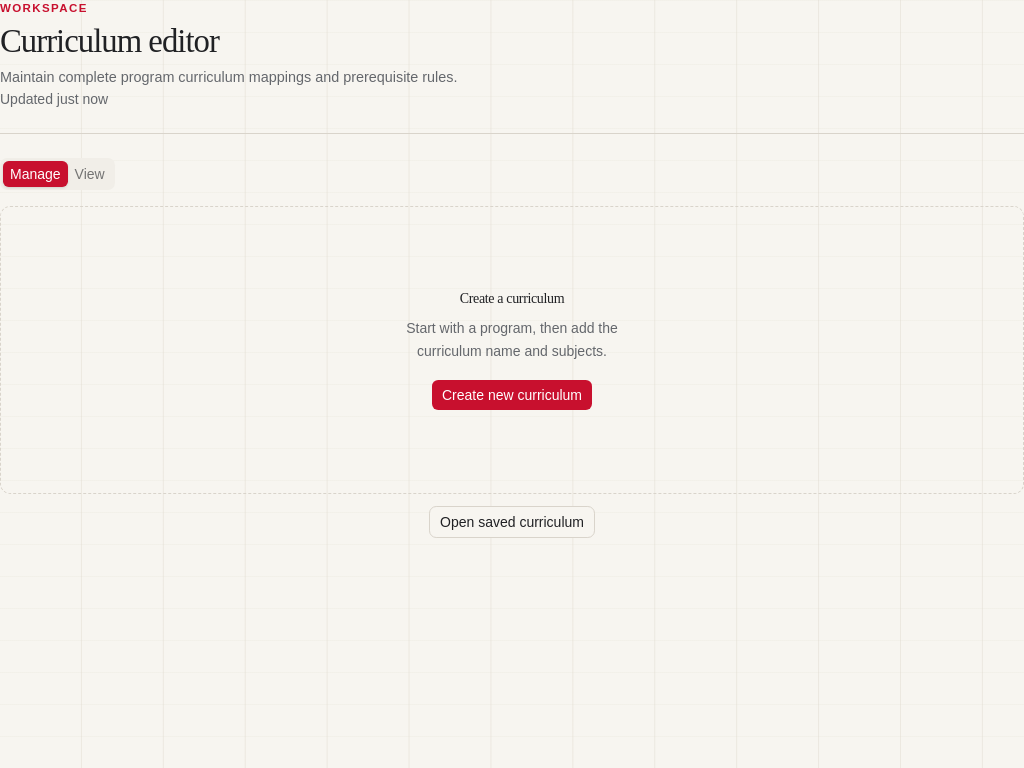
Scenario: CurriculumWorkspace › shows each placement's catalog description and units read-only in its year tab
The image size is (1024, 768).
What coordinates should you click on to do the following:
click the button "Open saved curriculum"
I would click on:
 (512, 522)
Its box is [429, 506, 595, 538].
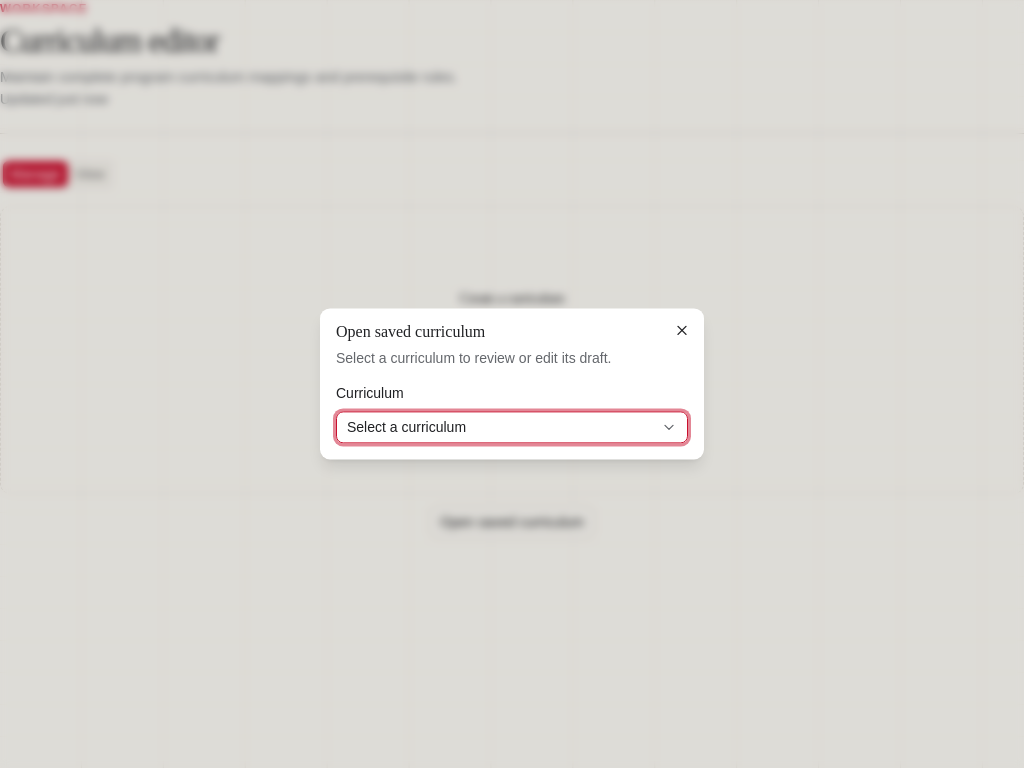
expect the dropdown labelled "curriculum" is enabled: met
What coordinates should you click on to do the following:
click the dropdown labelled "curriculum"
I would click on:
 (407, 428)
Its box is [336, 412, 688, 444].
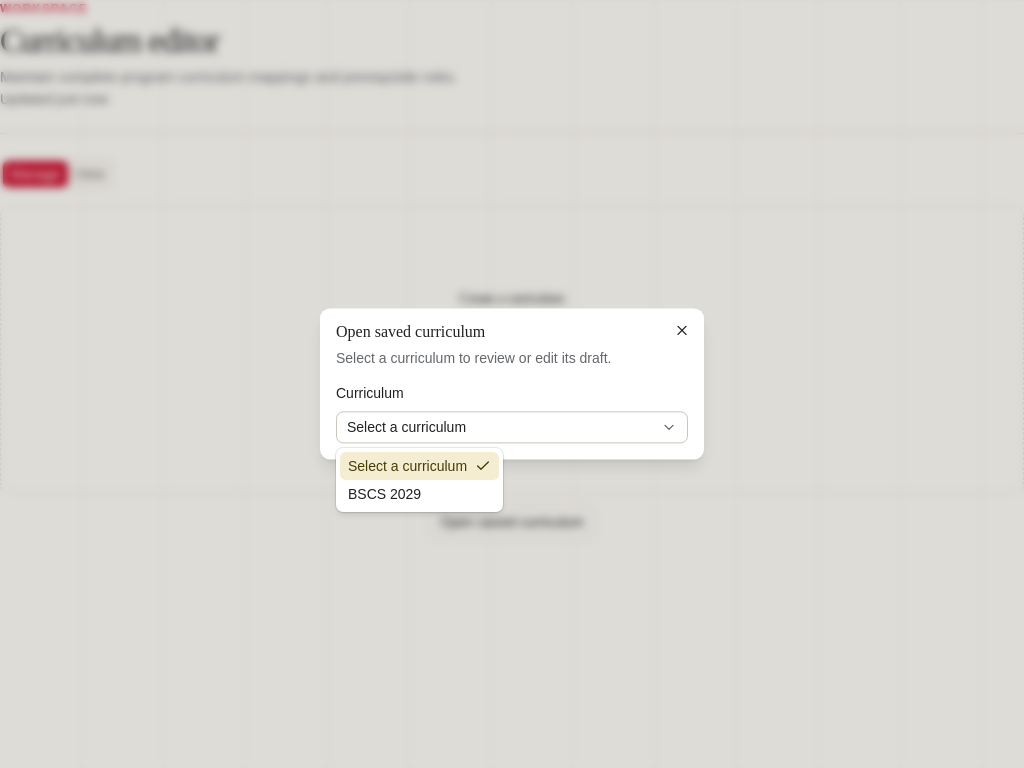
What coordinates should you click on to do the following:
click the option "BSCS 2029"
I would click on:
 (385, 494)
Its box is [348, 486, 421, 502].
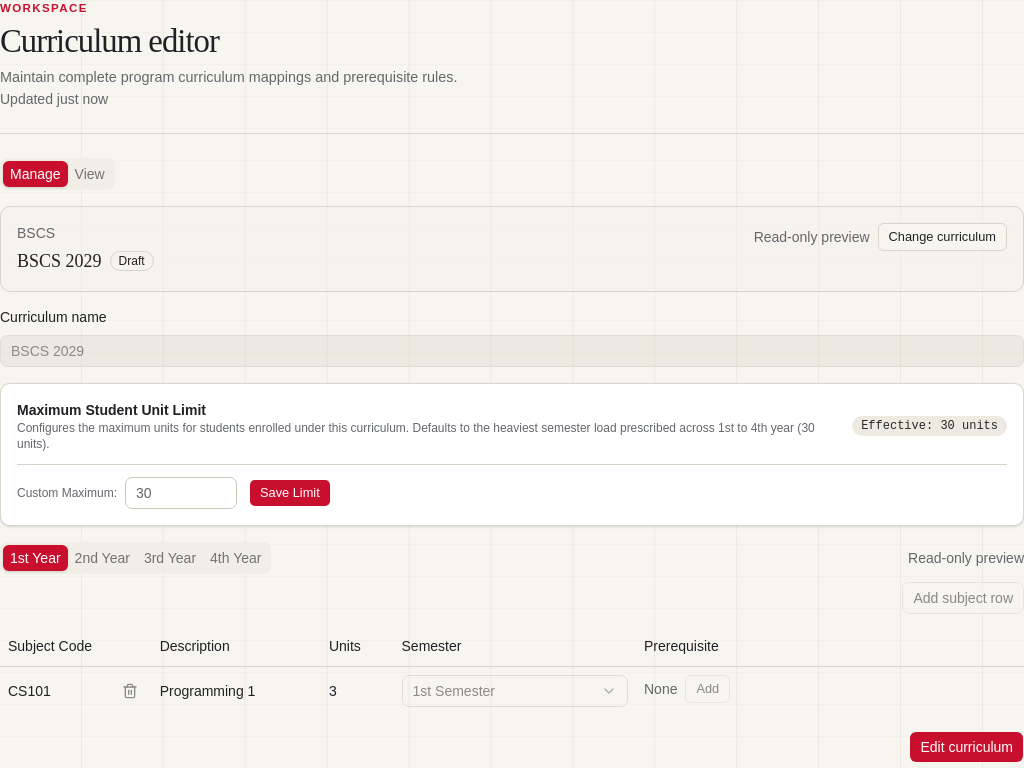
expect the text "CS101" is shown: met, box [8, 681, 51, 701]
expect the text "Programming 1" is shown: met, box [152, 666, 321, 715]
expect the text "3" is shown: met, box [321, 666, 394, 715]
What coordinates should you click on to do the following:
click the tab "2nd Year"
I would click on:
 (102, 558)
Its box is [68, 545, 137, 571].
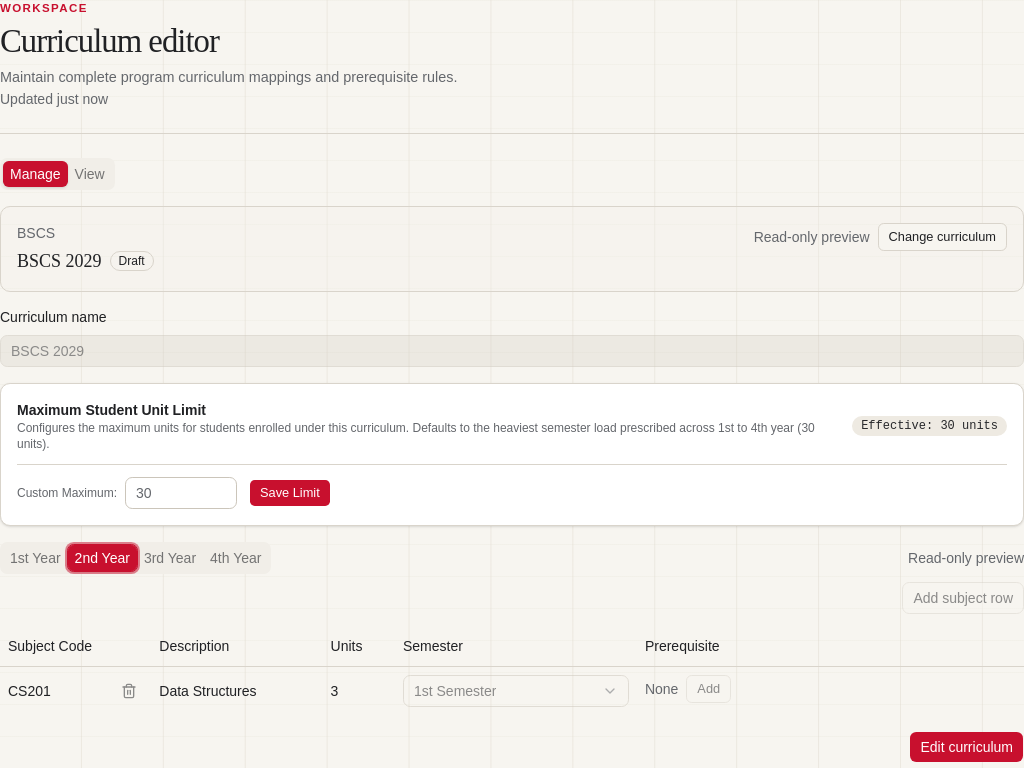
expect the text "CS201" is shown: met, box [8, 681, 51, 701]
